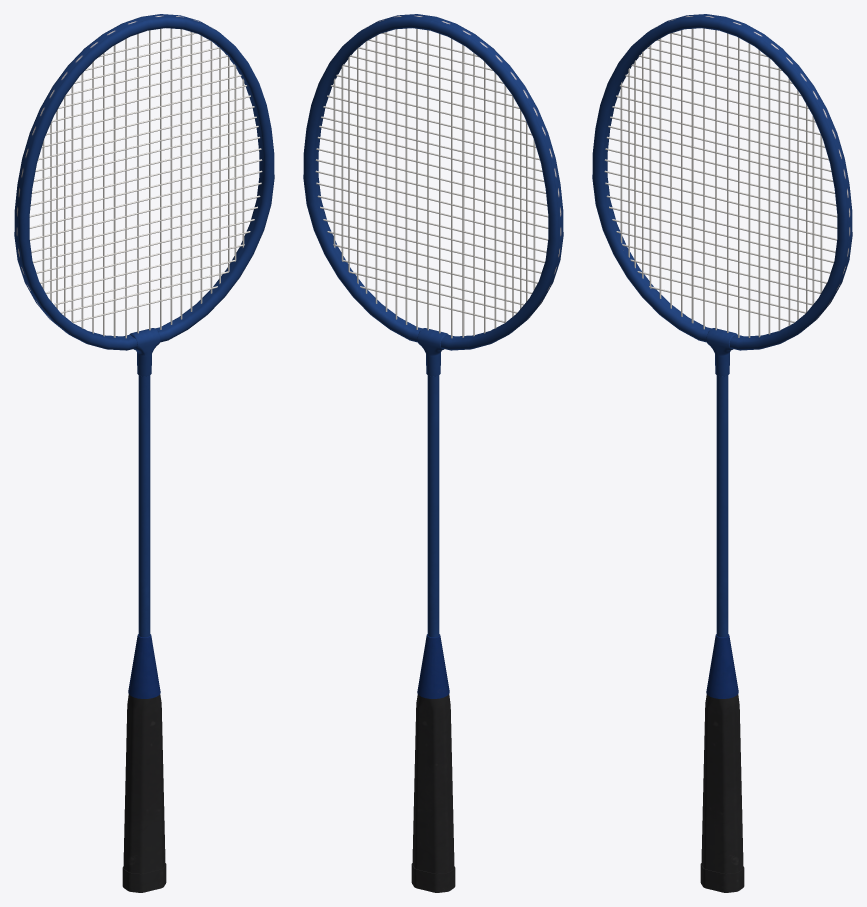
File: Racket_cross.fbx
3 views of the same model, side by side, from view 1: azimuth 30°, elevation 25°; view 2: azimuth 150°, elevation 25°; view 3: azimuth 330°, elevation 25° (orthographic).
Visible parts, largest first — view 1: Racket; view 2: Racket; view 3: Racket.
Boxes of the visible parts, left/top/right/bottom form: Racket: left=14, top=14, right=274, bottom=892; Racket: left=303, top=14, right=563, bottom=892; Racket: left=592, top=14, right=852, bottom=892.
Bounding box in the file's own units: 20.34 × 66.05 × 2.26.
Materials: 1 (1 with a texture image).
